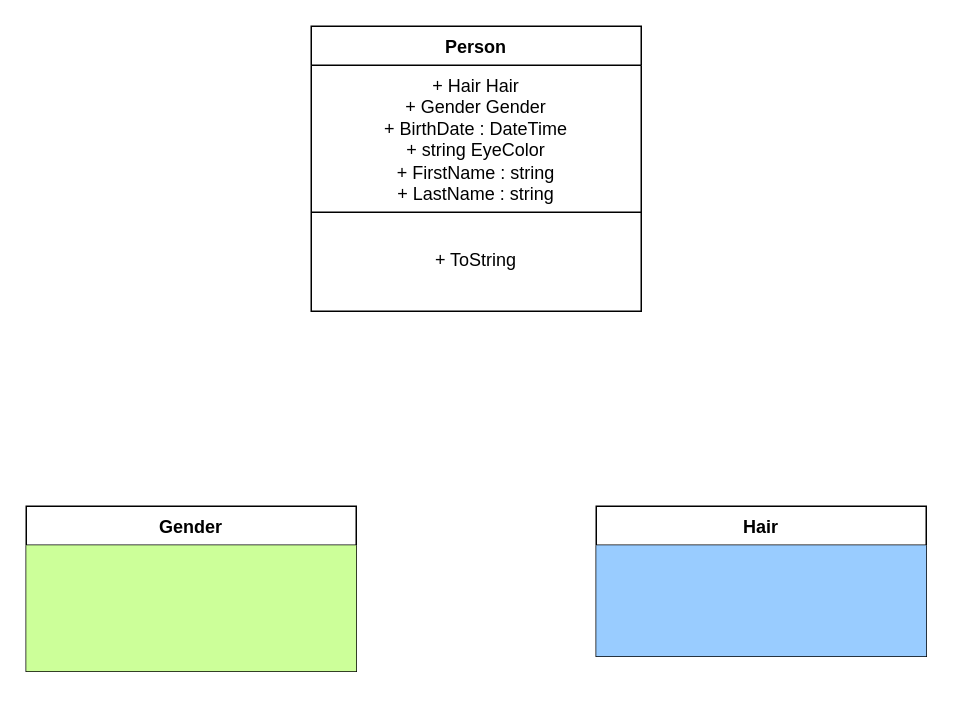
Image size: 953x702. Some labels were removed from this diagram. The centre of each missing label's shape, as x and y in pixels:
"+ Color : string + Length : double" goes at [761,600].
"+Kvinna +Man +Ickebinär +Annan" goes at [191,607].
